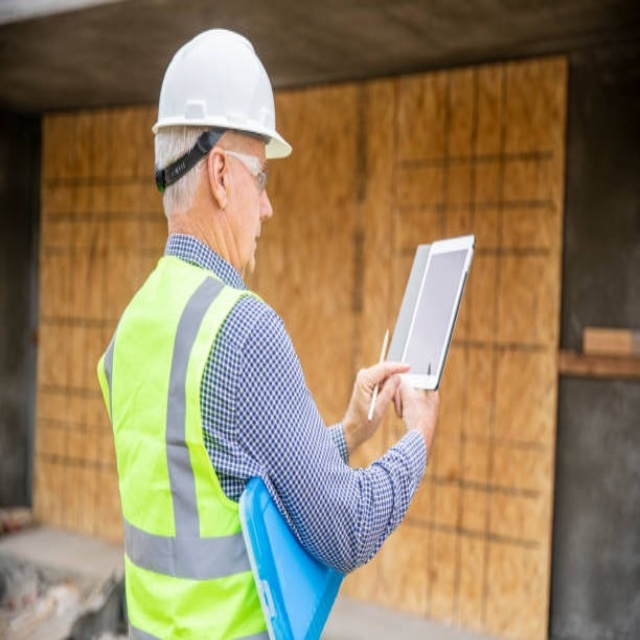Gafas: (219, 147, 271, 199)
Sin_guantes: (348, 358, 410, 439), (392, 370, 442, 462)
Sin_mascara: (231, 209, 276, 271)
